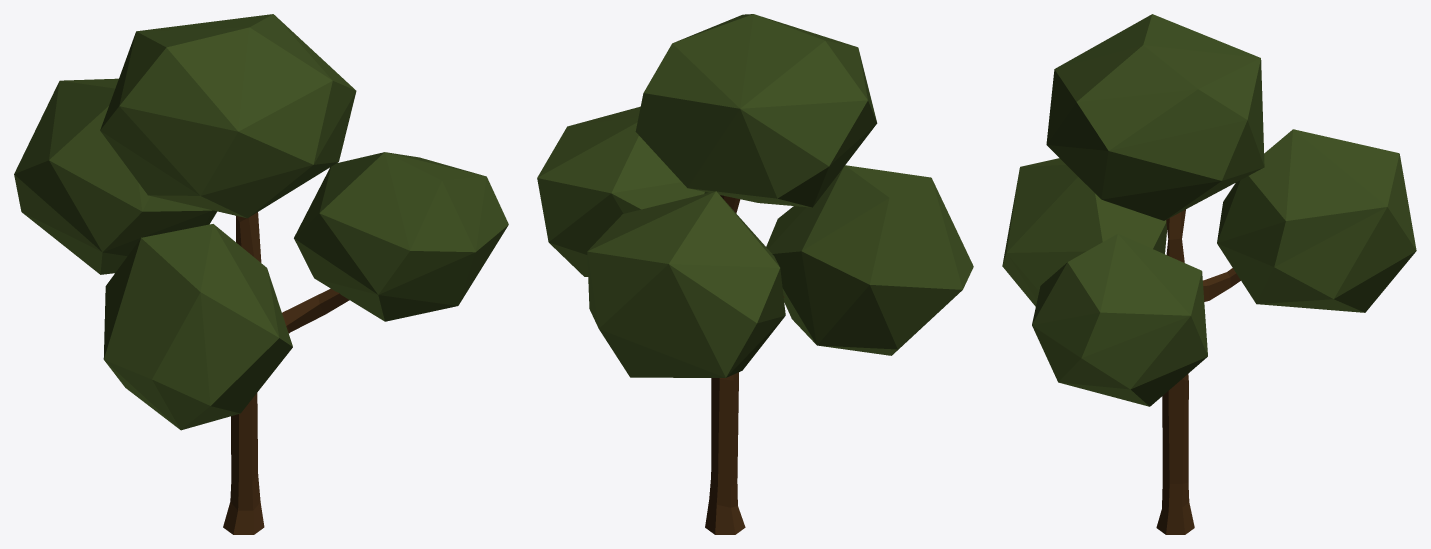
File: Normal_Tree01.fbx
The picture shows the model from 3 angles, left to right: view 1: azimuth 30°, elevation 25°; view 2: azimuth 150°, elevation 25°; view 3: azimuth 270°, elevation 25°; orthographic projection. The views are drawn at different scales.
Visible parts, largest first — view 1: Normal_Tree01; view 2: Normal_Tree01; view 3: Normal_Tree01.
Part boxes in pixels (x1,y1,x2,y2): Normal_Tree01: [14, 14, 508, 534]; Normal_Tree01: [537, 14, 973, 534]; Normal_Tree01: [1002, 14, 1416, 534].
Size of the model in its own units: 441 by 535 by 421.
